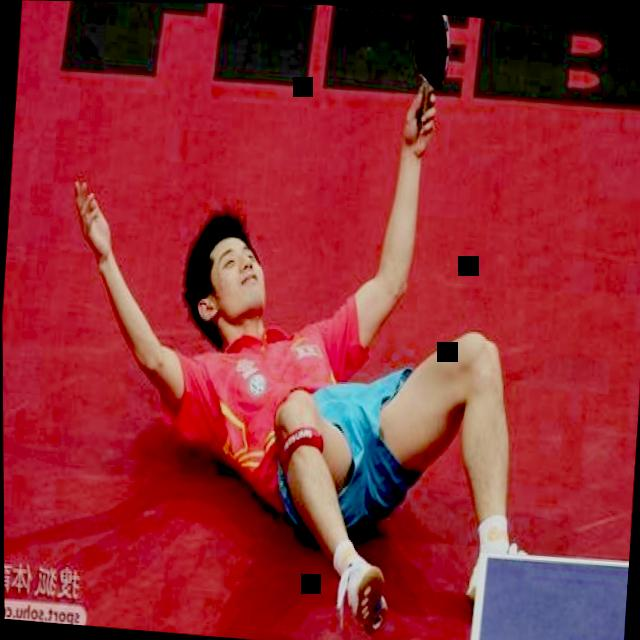Fall-Detected: (25, 0, 583, 640)
